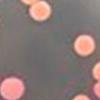pink: (71, 31, 98, 59), (0, 74, 27, 100), (27, 0, 54, 24), (88, 80, 100, 100), (90, 60, 100, 82), (69, 93, 93, 100), (16, 0, 47, 5)
